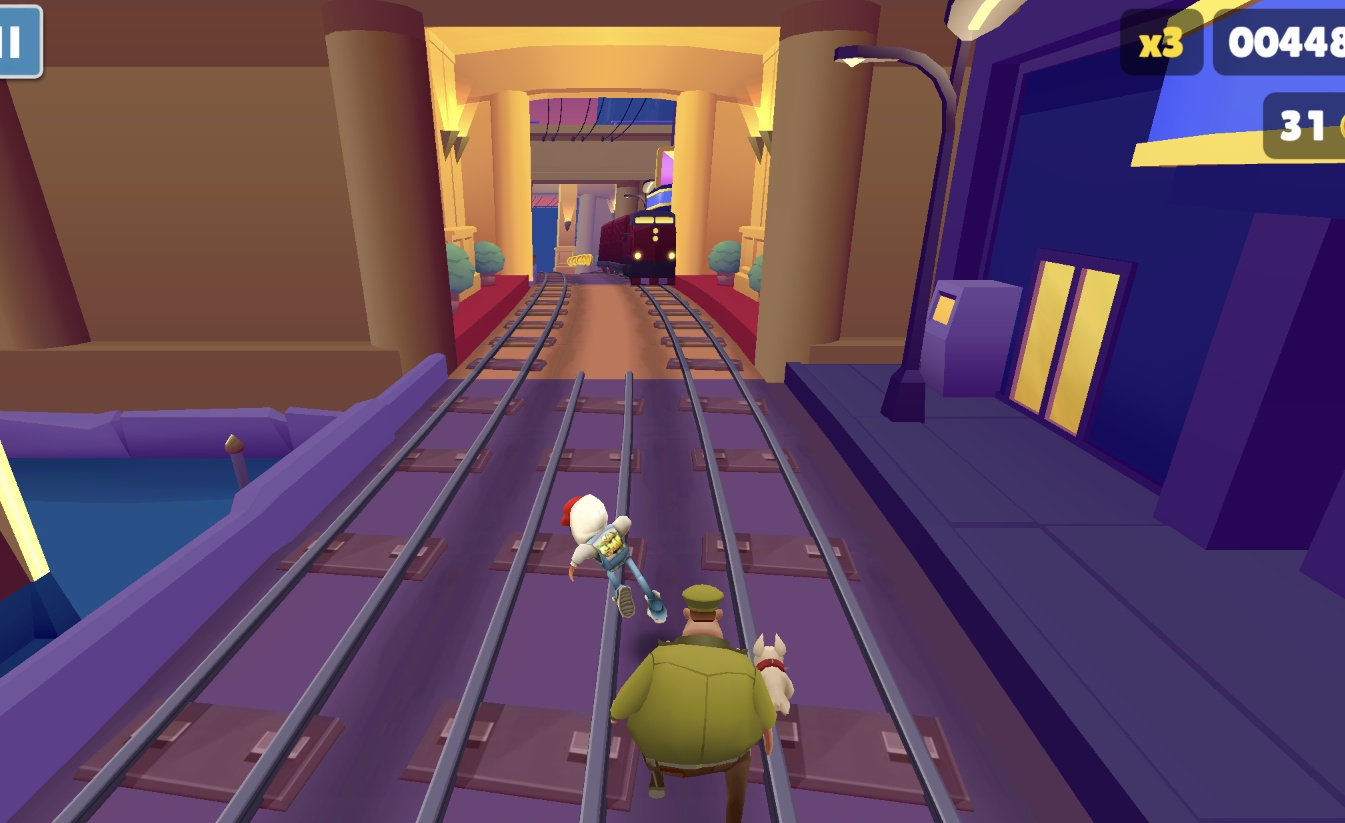pillar: (554, 189, 581, 274)
train: (596, 216, 673, 286)
